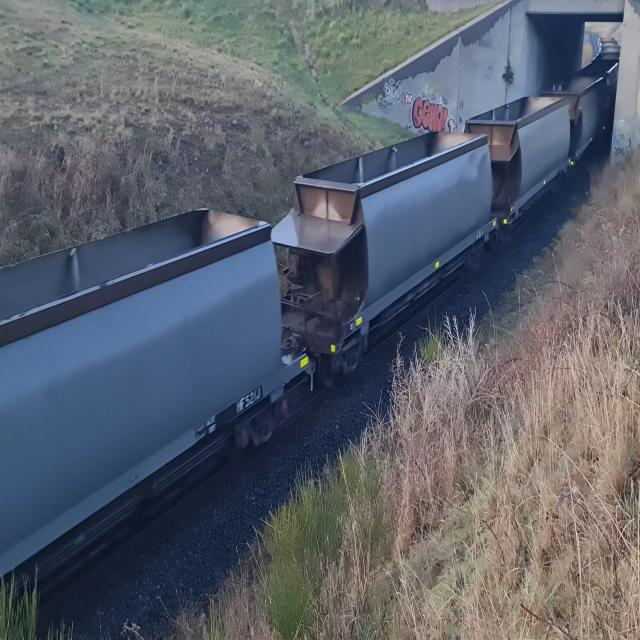hopper: (0, 190, 318, 617), (272, 120, 500, 387)
